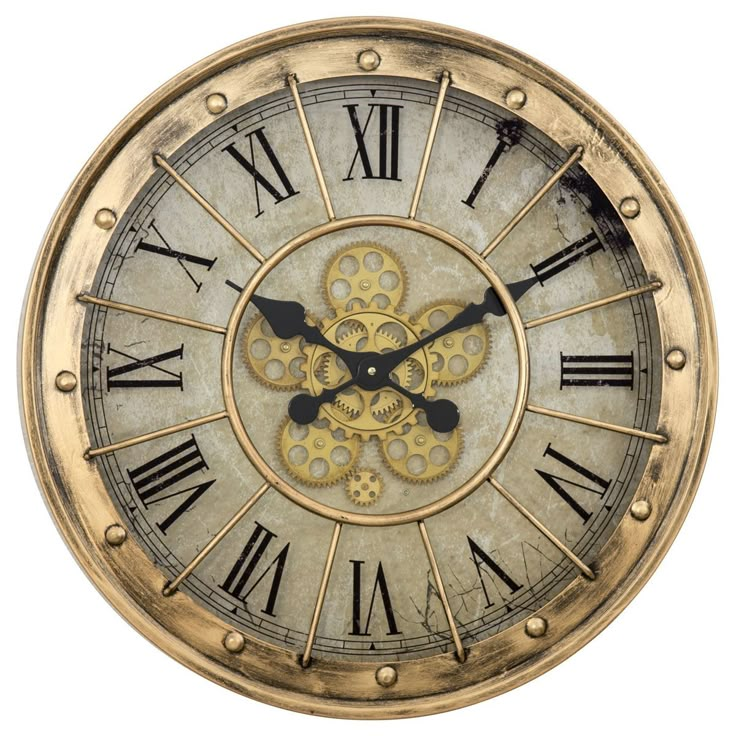clock: (41, 27, 717, 727)
